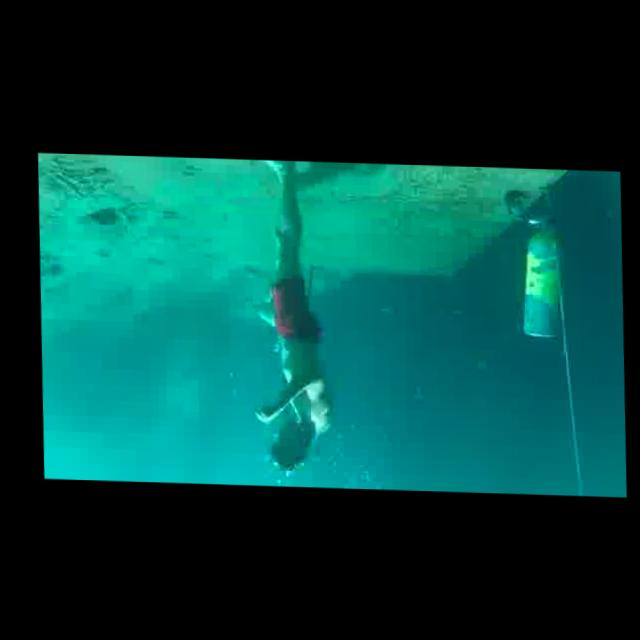human: (241, 159, 338, 477)
